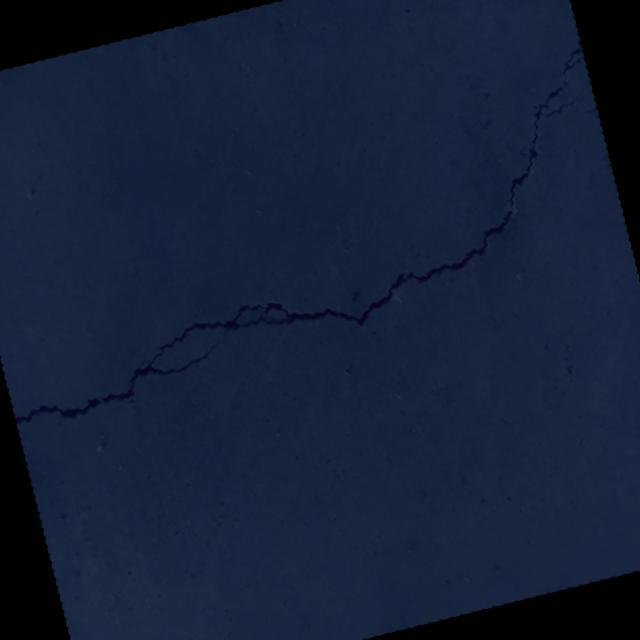crack: (0, 39, 639, 433), (573, 105, 598, 117)
